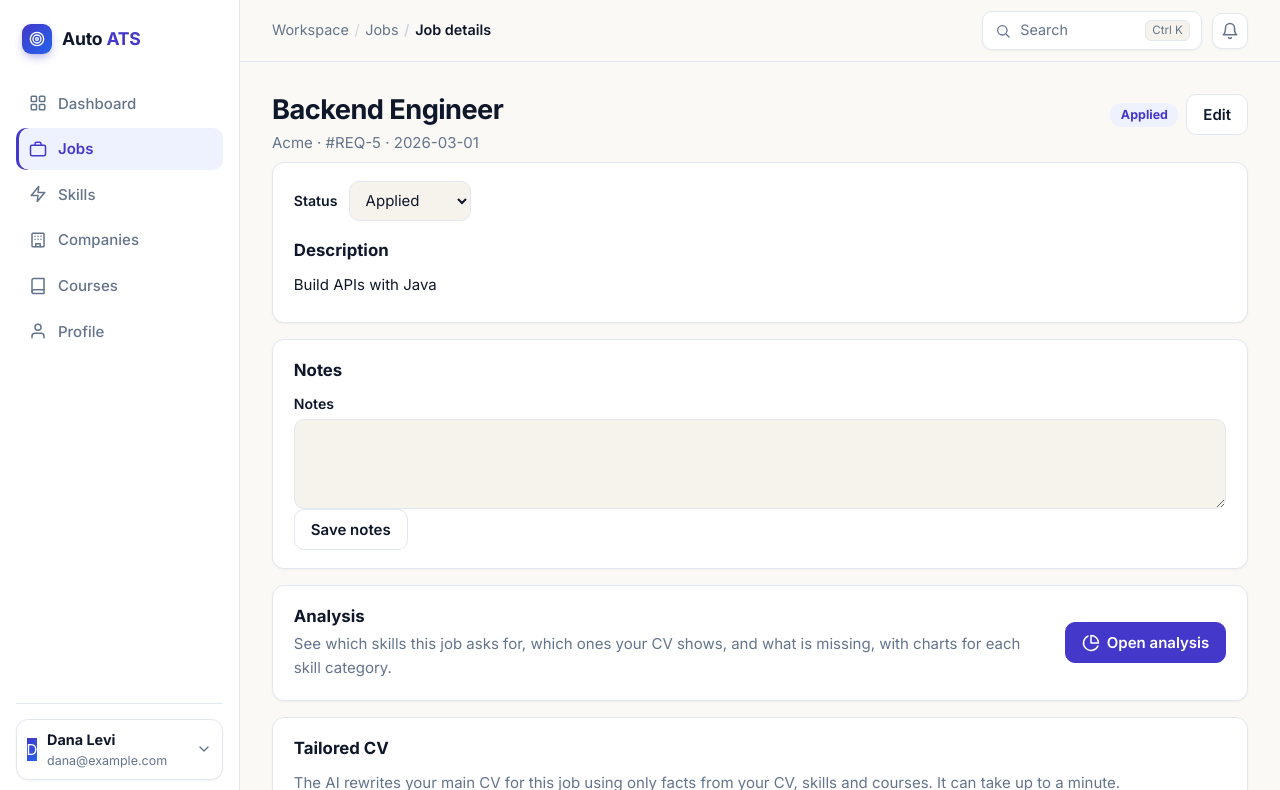
Scenario: JobDetailPage details › GivenJob_WhenClickingEdit_ThenEditFormOpens
Click the link "Edit" at (1217, 115), box [1186,94,1248,135]
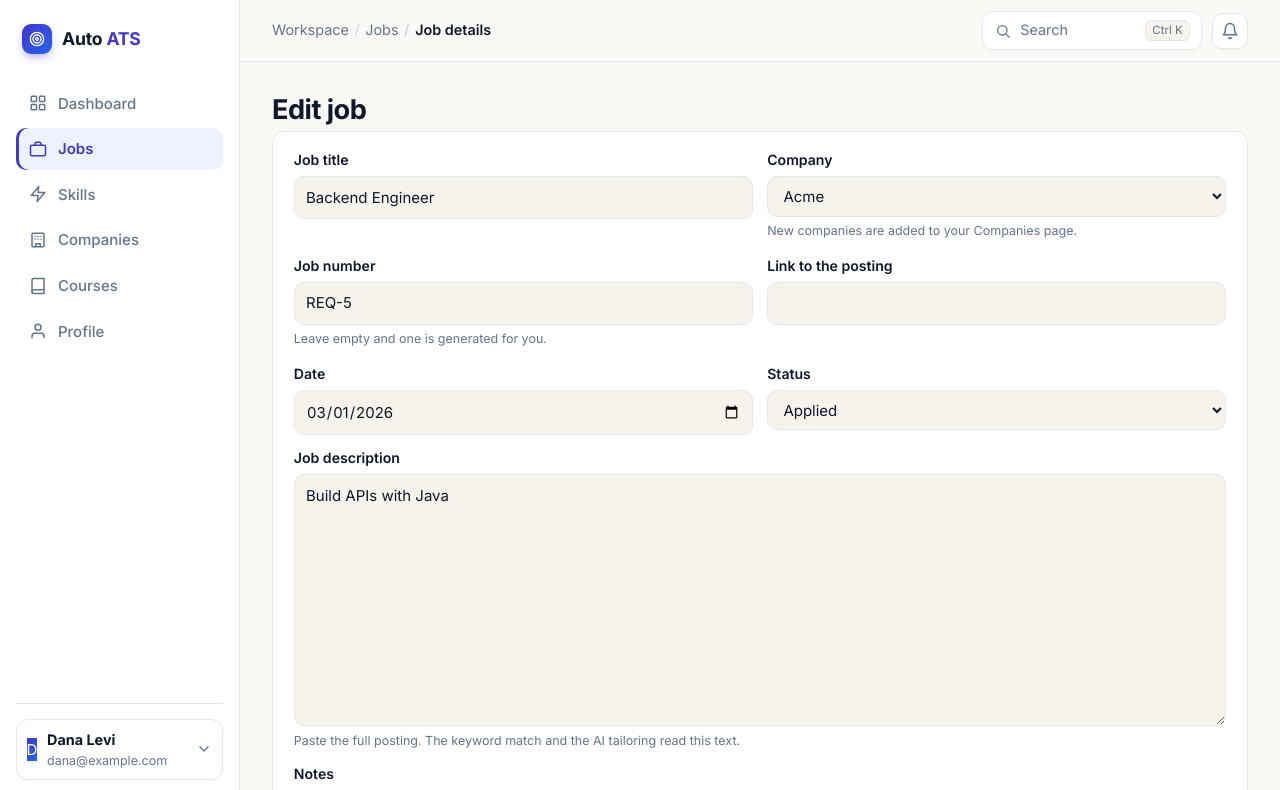
Check: the heading "Edit job" is shown, box [272,93,366,126]
